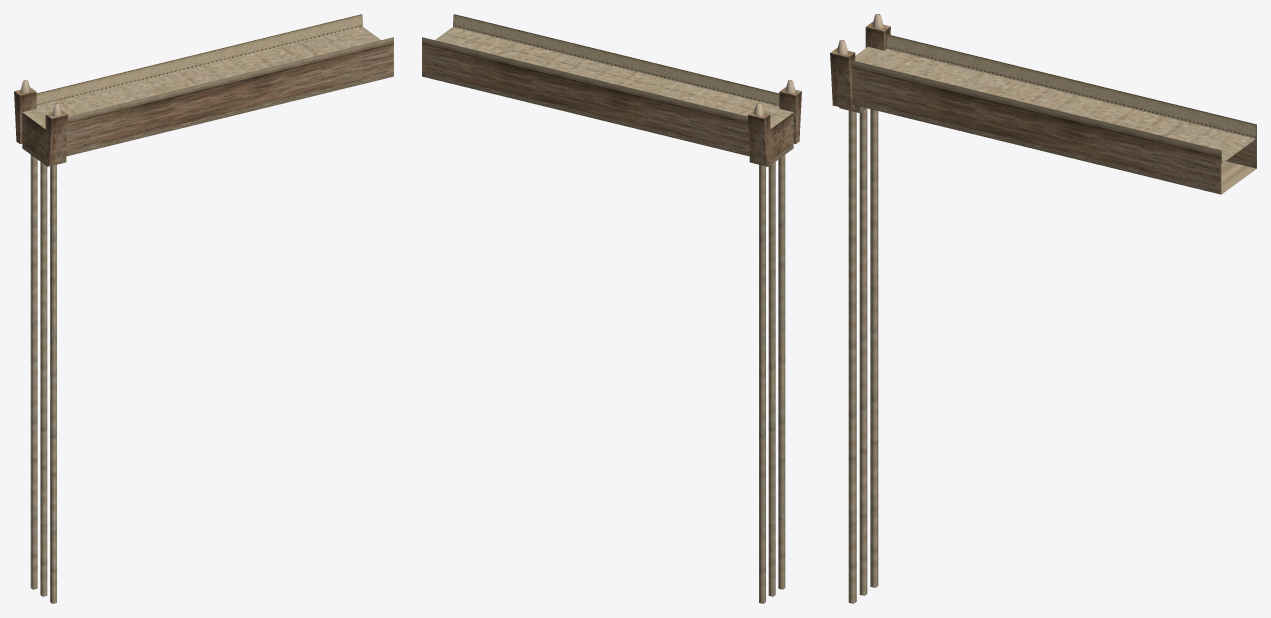
Rendered from thm_nboo_imprv_elevated_walkway_s03_l3.fbx.
3 views of the same model, side by side, from view 1: azimuth 30°, elevation 25°; view 2: azimuth 150°, elevation 25°; view 3: azimuth 330°, elevation 25° (orthographic). The views are drawn at different scales.
Visible parts, largest first — view 1: mesh_node; view 2: mesh_node; view 3: mesh_node.
Boxes of the visible parts, x1=… form: mesh_node: x1=14, y1=14, x2=393, y2=603; mesh_node: x1=422, y1=14, x2=801, y2=603; mesh_node: x1=830, y1=14, x2=1256, y2=603.
Bounding box in the file's own units: 32.78 × 45.67 × 6.2.
